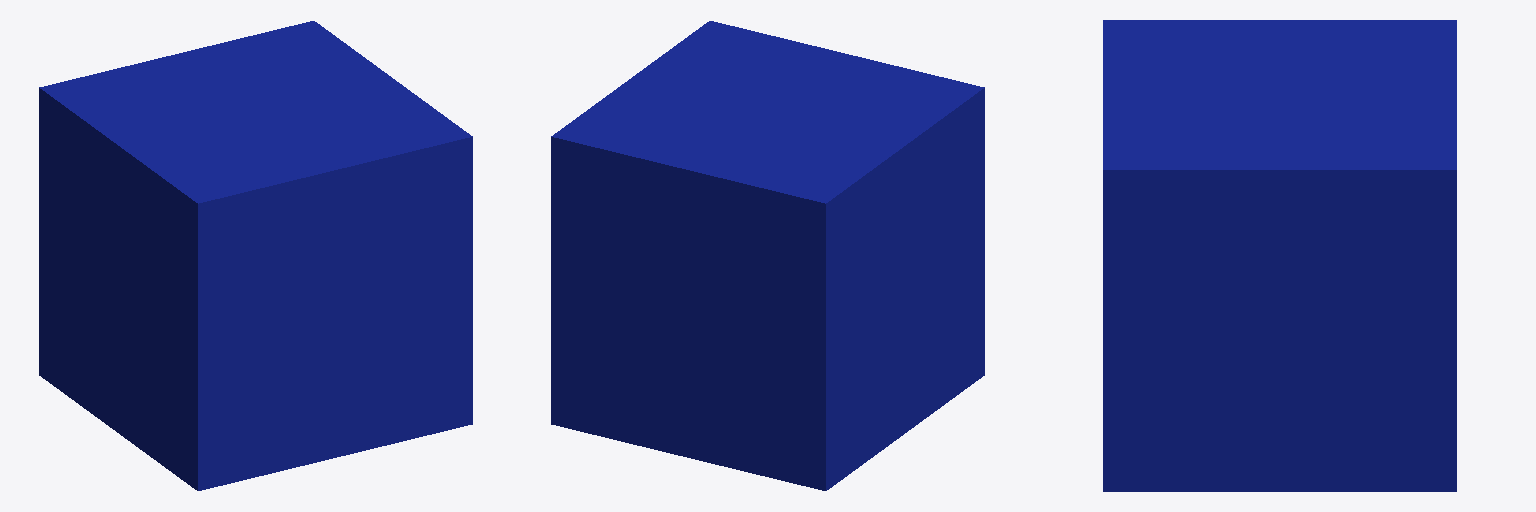
robot.urdf — random_box:
<?xml version='1.0' encoding='UTF-8'?>
<robot name="random_box">
  <link name="box">
    <visual>
      <geometry>
        <box size="0.05 0.05 0.05"/>
      </geometry>
      <material name="color">
        <color rgba="0.1359221145320726 0.21267847960208663 0.6623611239457299 1"/>
      </material>
    </visual>
    <collision>
      <geometry>
        <box size="0.05 0.05 0.05"/>
      </geometry>
    </collision>
  </link>
</robot>

--- Facts derived from the render (not from the file) ---
The picture shows the robot from 3 angles, left to right: view 1: azimuth 30°, elevation 25°; view 2: azimuth 150°, elevation 25°; view 3: azimuth 270°, elevation 25°; orthographic projection.
Robot: random_box — 1 links, 0 joints (none); root link box; default pose: every joint at zero.
Visible links, largest first — view 1: box; view 2: box; view 3: box.
Link boxes in pixels (x1,y1,x2,y2): box: [39, 21, 472, 490]; box: [551, 21, 984, 490]; box: [1103, 20, 1456, 491].
Bounding box of the posed robot: 0.05 × 0.05 × 0.05 m (x, y, z).
Geometry: primitives only (box / cylinder / sphere), no mesh files.